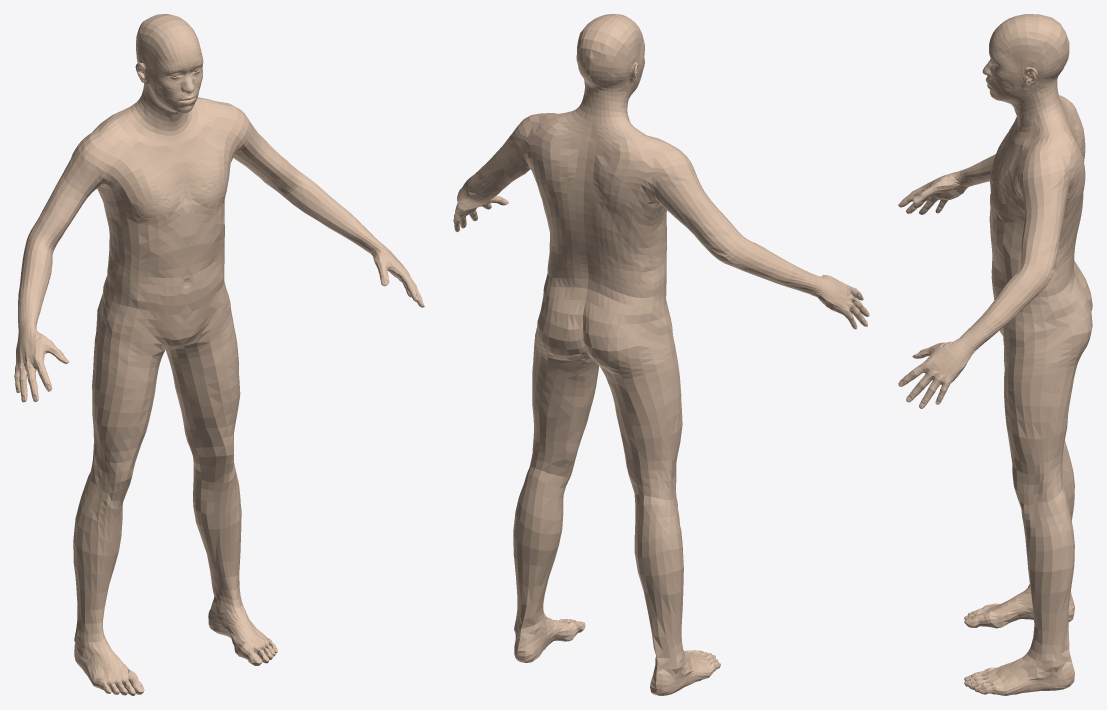
The model's file is male-adult-average-toned.glb.
The picture shows the model from 3 angles, left to right: view 1: azimuth 30°, elevation 25°; view 2: azimuth 150°, elevation 25°; view 3: azimuth 270°, elevation 25°; orthographic projection.
Visible parts, largest first — view 1: world; view 2: world; view 3: world.
Boxes of the visible parts, left/top/right/bottom form: world: left=14, top=14, right=424, bottom=695; world: left=453, top=14, right=869, bottom=695; world: left=898, top=14, right=1092, bottom=695.
Bounding box in the file's own units: 1.28 × 1.95 × 0.5373.
